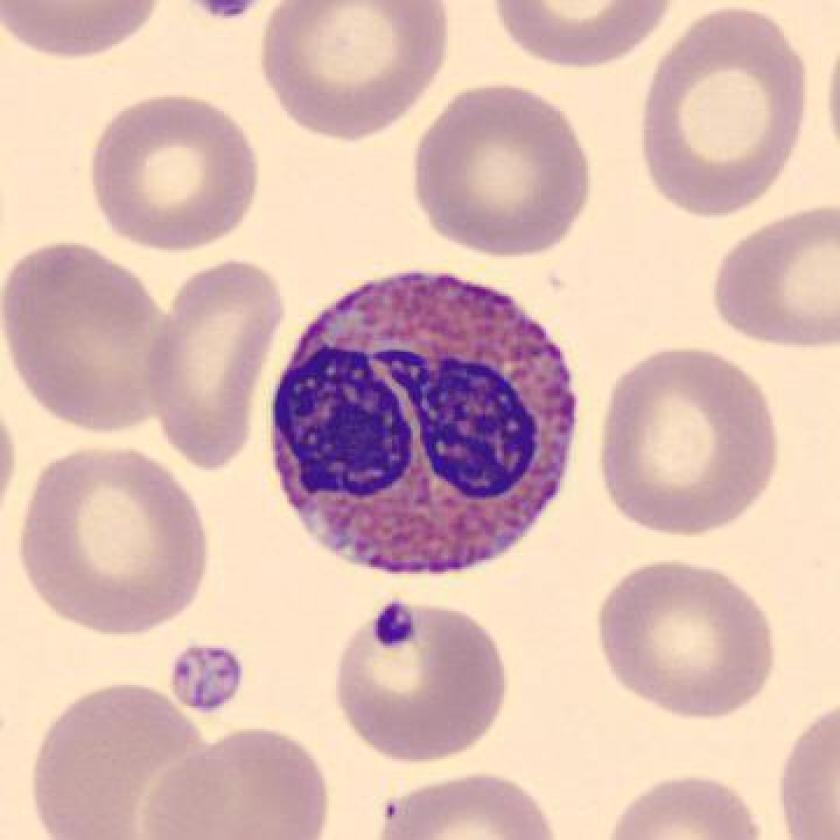eosinophil: (253, 256, 584, 584)
